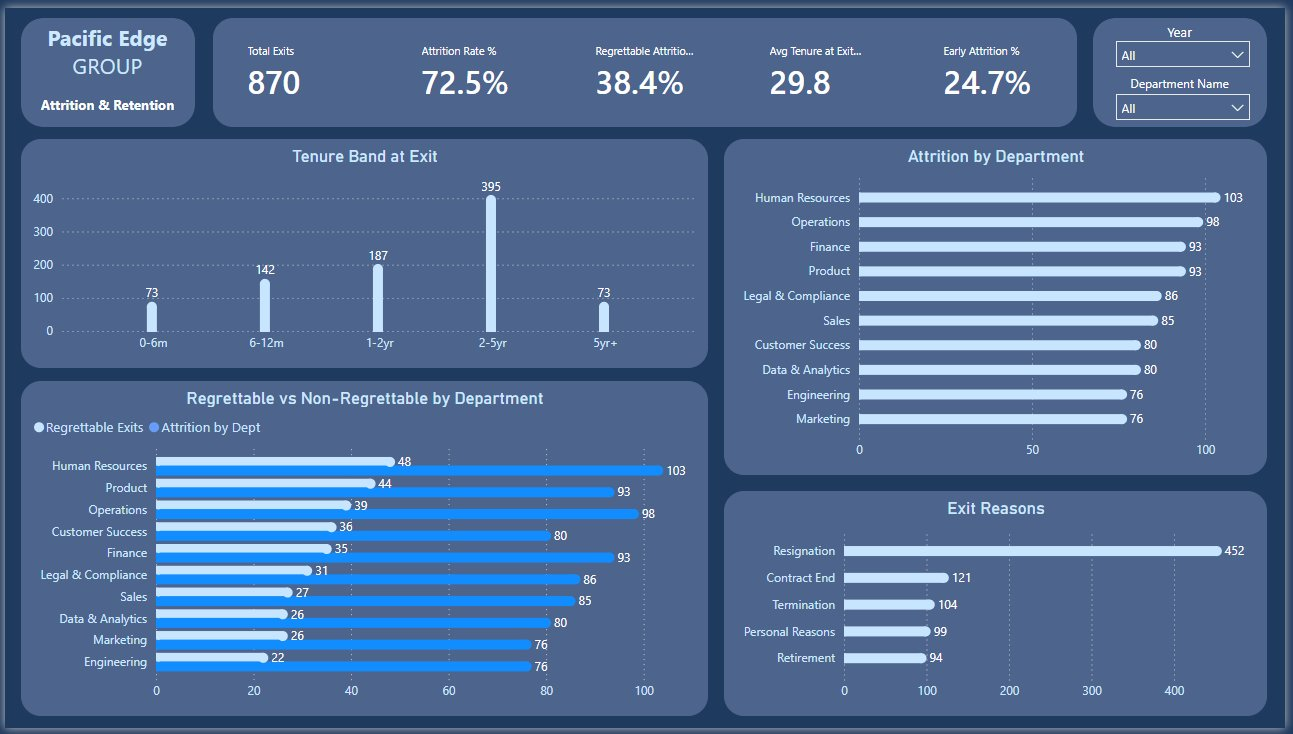

The page's visual inventory and layout, read from the dashboard file:
{"tool":"powerbi","page":{"name":"Attrition & Retention","canvas":[1280,720],"ordinal":1},"visuals":[{"type":"cardVisual","fields":{"Data":["_Measures.Total Exits","_Measures.Attrition Rate %","_Measures.Regrettable Attrition %","_Measures.Avg Tenure at Exit (Months)","_Measures.Early Attrition %"]},"box":[207.8,10,864.4,108.9],"z":0},{"type":"shape","box":[15.6,10,174.4,108.9],"z":1000},{"type":"shape","box":[1087.8,10,174.4,108.9],"z":2000,"group":"g1"},{"type":"clusteredColumnChart","title":"Tenure Band at Exit","fields":{"Category":["fact_attrition.tenure_band"],"Y":["_Measures.Total Exits"]},"box":[15.6,131.1,687.8,228.9],"z":2000},{"type":"clusteredBarChart","title":"Exit Reasons","fields":{"Category":["fact_attrition.exit_reason"],"Y":["_Measures.Total Exits"]},"box":[718.9,483.3,543.3,224.4],"z":3000},{"type":"clusteredBarChart","title":"Attrition by Department","fields":{"Category":["dim_department.dept_name"],"Y":["_Measures.Attrition by Dept"]},"box":[718.9,131.1,543.3,335.6],"z":4000},{"type":"textbox","box":[15.6,10,174.4,108.9],"z":5000},{"type":"group","id":"g1","title":"Group 1","box":[1087.8,10,174.4,121.1],"z":6000},{"type":"clusteredBarChart","title":"Regrettable vs Non-Regrettable by Department","fields":{"Category":["dim_department.dept_name"],"Y":["_Measures.Regrettable Exits","_Measures.Attrition by Dept"]},"box":[15.6,373.3,687.8,334.4],"z":7000},{"type":"slicer","fields":{"Values":["dim_date.year"]},"box":[1101.1,22.6,153.7,54.2],"z":8000,"group":"g1"},{"type":"slicer","fields":{"Values":["dim_department.dept_name"]},"box":[1101.1,75.8,153.7,55.3],"z":9000,"group":"g1"},{"type":"textbox","box":[1087.9,10,174.2,47.4],"z":10000,"group":"g1"},{"type":"textbox","box":[1087.9,60.5,174.2,47.9],"z":11000,"group":"g1"}]}

Visuals, with their boxes in screenshot pixels (x1, y1, x2, y2), scaled from the page's 1280x720 canvas onto the 1293x734 screenshot:
cardVisual - _Measures.Total Exits x _Measures.Attrition Rate %: (210, 10, 1083, 121)
shape: (16, 10, 192, 121)
shape: (1099, 10, 1275, 121)
"Tenure Band at Exit" clusteredColumnChart: (16, 134, 711, 367)
"Exit Reasons" clusteredBarChart: (726, 493, 1275, 721)
"Attrition by Department" clusteredBarChart: (726, 134, 1275, 476)
textbox: (16, 10, 192, 121)
"Group 1" group: (1099, 10, 1275, 134)
"Regrettable vs Non-Regrettable by Department" clusteredBarChart: (16, 381, 711, 721)
slicer - dim_date.year: (1112, 23, 1268, 78)
slicer - dim_department.dept_name: (1112, 77, 1268, 134)
textbox: (1099, 10, 1275, 59)
textbox: (1099, 62, 1275, 111)
